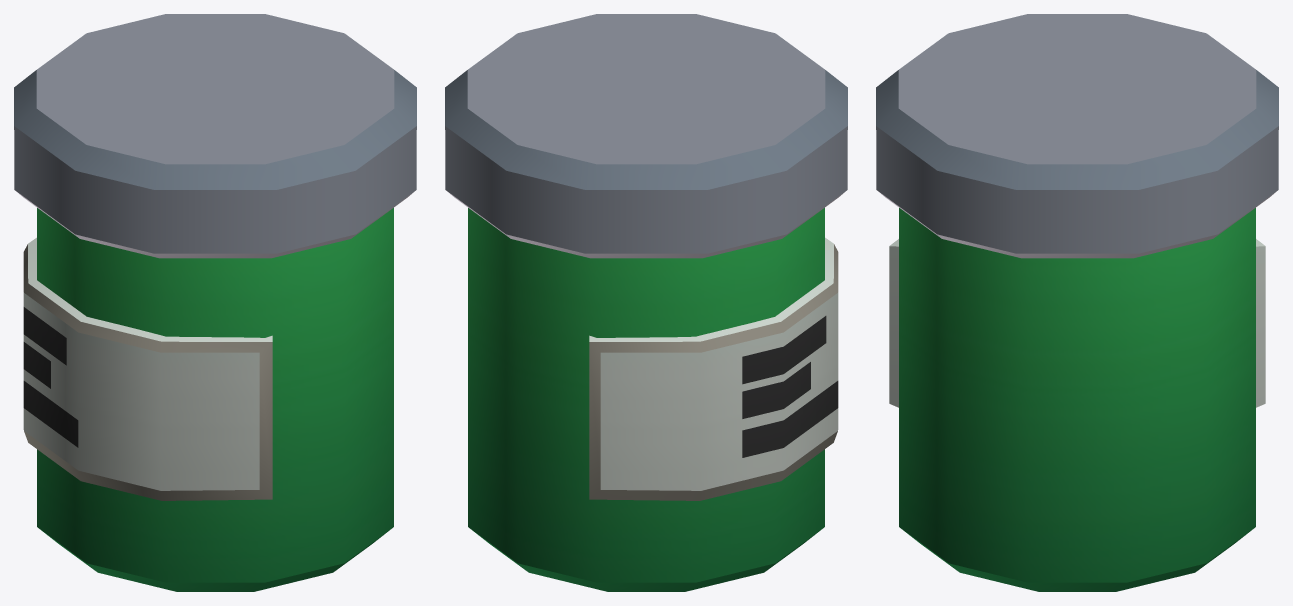
File: Jar_1_F.glb
3 renders of one model, left to right at view 1: azimuth 30°, elevation 25°; view 2: azimuth 150°, elevation 25°; view 3: azimuth 270°, elevation 25°, orthographic.
Parts seen in each view (by area): view 1: Jar_1_F; view 2: Jar_1_F; view 3: Jar_1_F.
Boxes of the visible parts, x1,y1,x2,y2 form: Jar_1_F: [14, 14, 416, 591]; Jar_1_F: [445, 14, 847, 591]; Jar_1_F: [876, 14, 1278, 591].
Bounding box in the file's own units: 0.1799 × 0.2194 × 0.1837.
2 materials, 2 textured.
